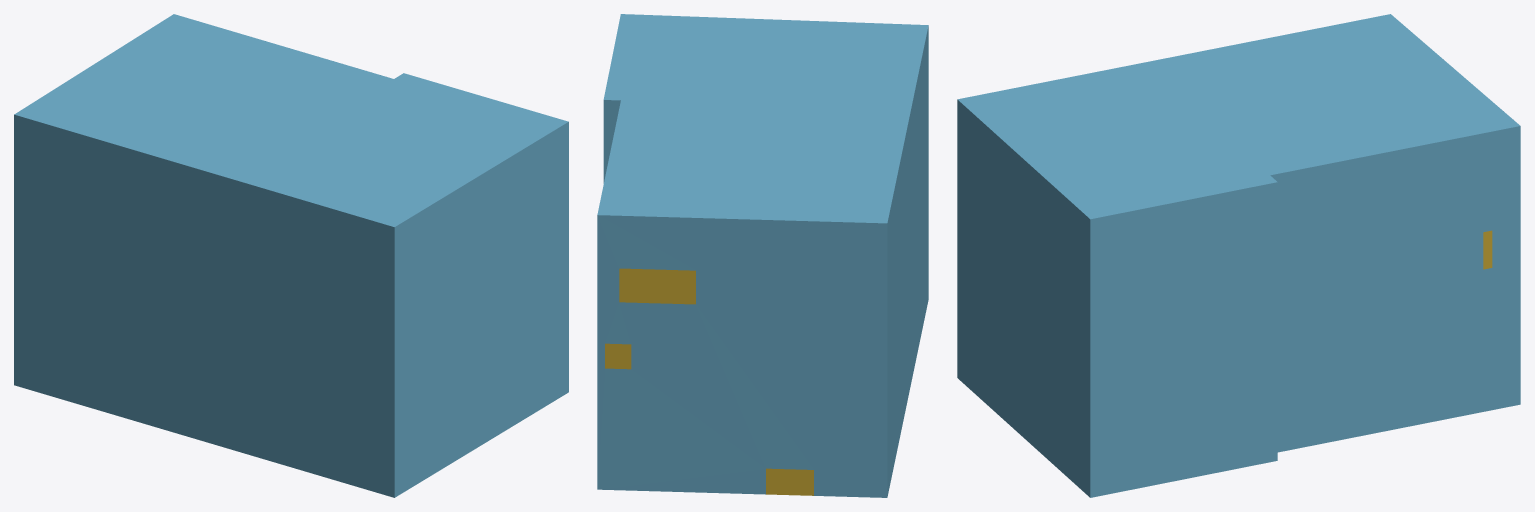
The model's file is bldg_74e1ac34-fcfc-4e06-aeef-2c4e495c8064.obj.
3 views of the same model, side by side, from view 1: azimuth 30°, elevation 25°; view 2: azimuth 150°, elevation 25°; view 3: azimuth 270°, elevation 25° (orthographic). The views are drawn at different scales.
Size of the model in its own units: 14.58 by 9.23 by 16.91.
